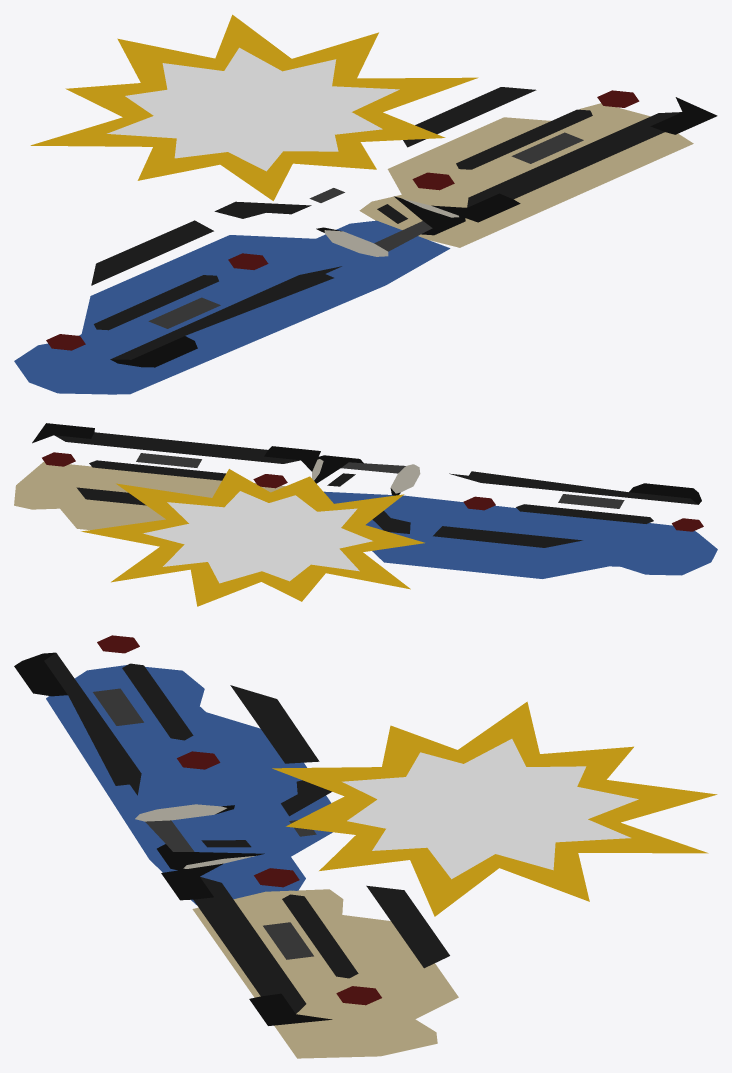
The picture shows the model from 3 angles, top to bottom: view 1: azimuth 30°, elevation 25°; view 2: azimuth 150°, elevation 25°; view 3: azimuth 270°, elevation 25°; orthographic projection. The views are drawn at different scales.
Visible parts, largest first — view 1: Cars, Explosion, Details; view 2: Cars, Explosion, Details; view 3: Cars, Explosion, Details.
Part boxes in pixels (<box>): Cars: <box>14,103,693,394</box>; Explosion: <box>30,14,478,200</box>; Details: <box>46,87,717,367</box>; Cars: <box>14,462,717,578</box>; Explosion: <box>81,469,424,606</box>; Details: <box>32,423,703,547</box>; Cars: <box>46,665,458,1058</box>; Explosion: <box>272,701,717,916</box>; Details: <box>14,635,449,1025</box>.
Size of the model in its own units: 0.9002 by 0.0645 by 0.6709.
